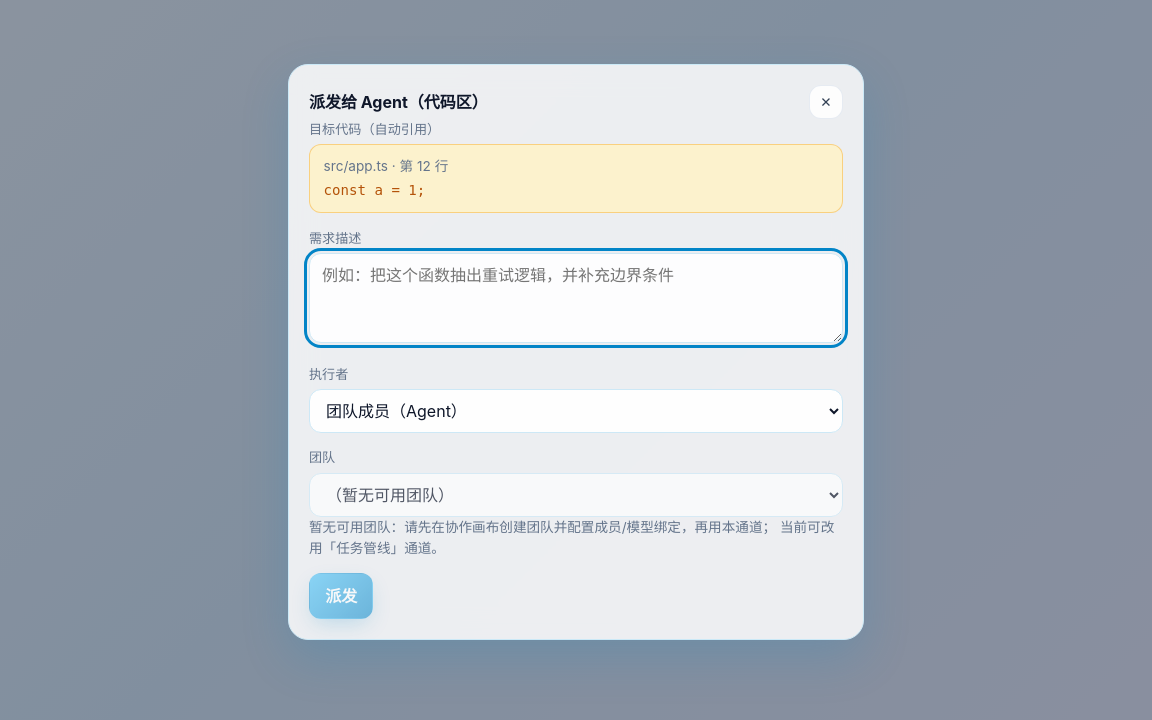
it: WorkbenchDispatchDialog 提交 payload › 任务管线通道：payload 含需求+片段引用+所选模式，回执展示真实 task_id
Expected: the text "暂无可用团队：请先在协作画布创建团队并配置成员/模型绑定，再用本通道； 当前可改用「任务管线」通道。" is shown, [309,517,843,559]
Select "任务管线（按模式建任务）" in the dropdown with test id "wb-dispatch-executor-kind" at (576, 411), box [309,389,843,433]
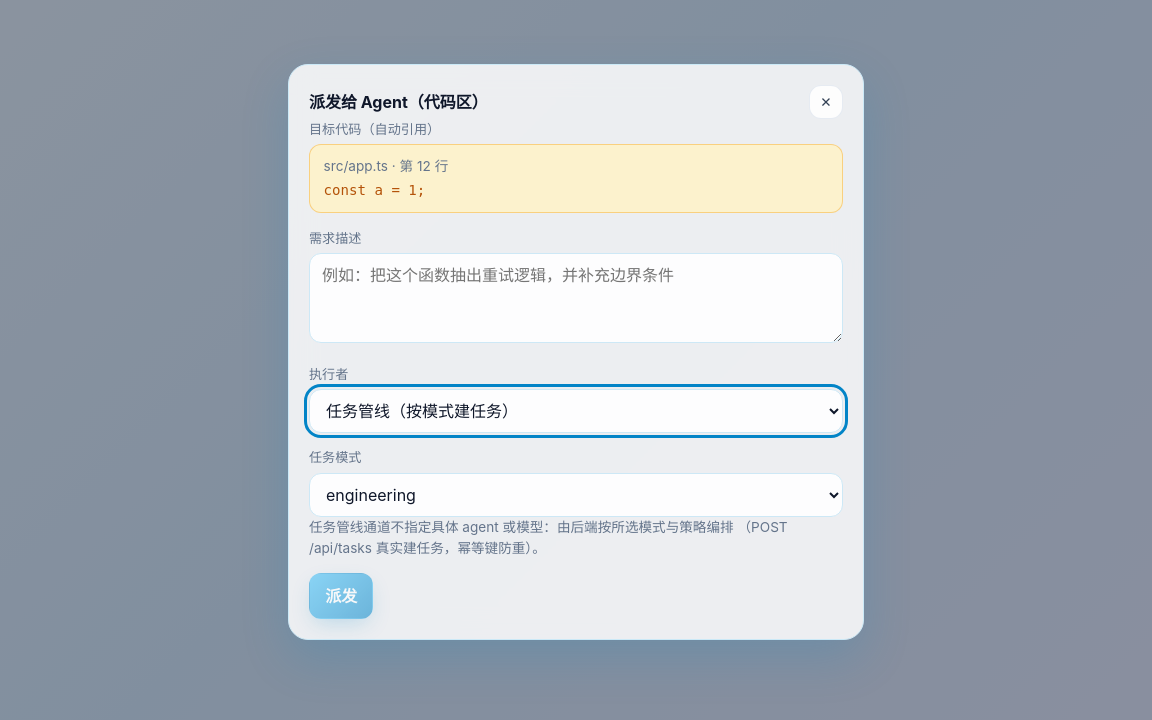
Select "engineering" in the dropdown with test id "wb-dispatch-mode" at (576, 495), box [309,473,843,517]
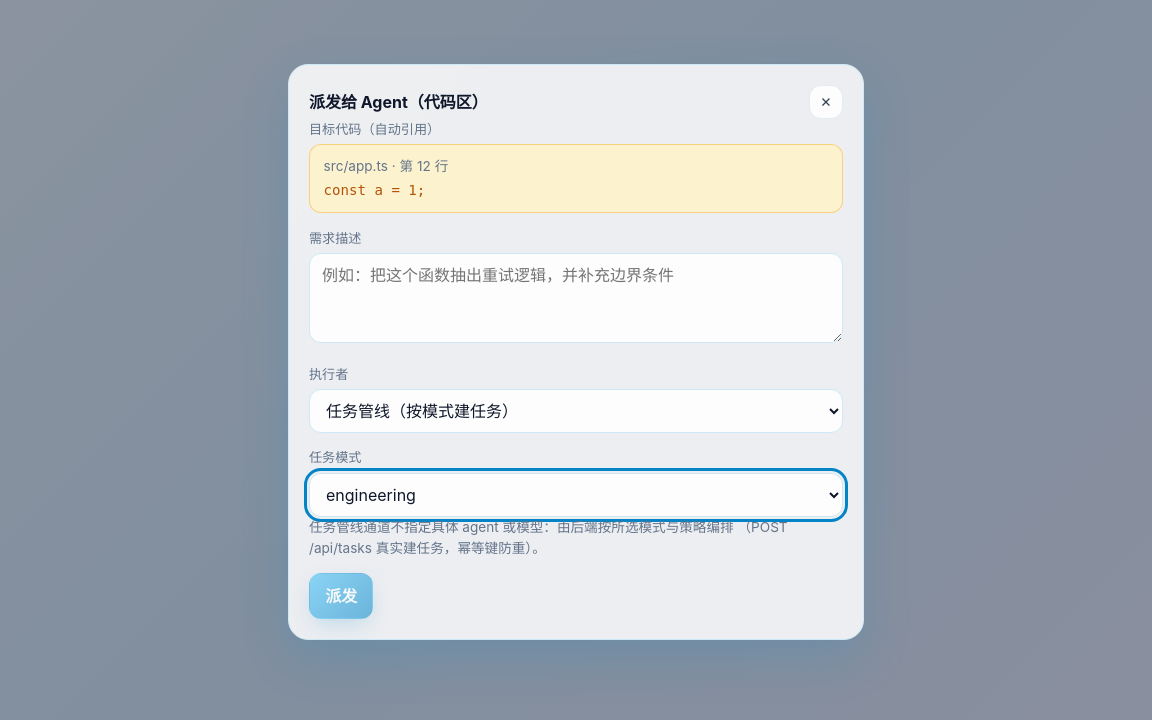
Type "把这个函数改成异步" into the text box with test id "wb-dispatch-requirement" at (576, 298), box [309,253,843,343]
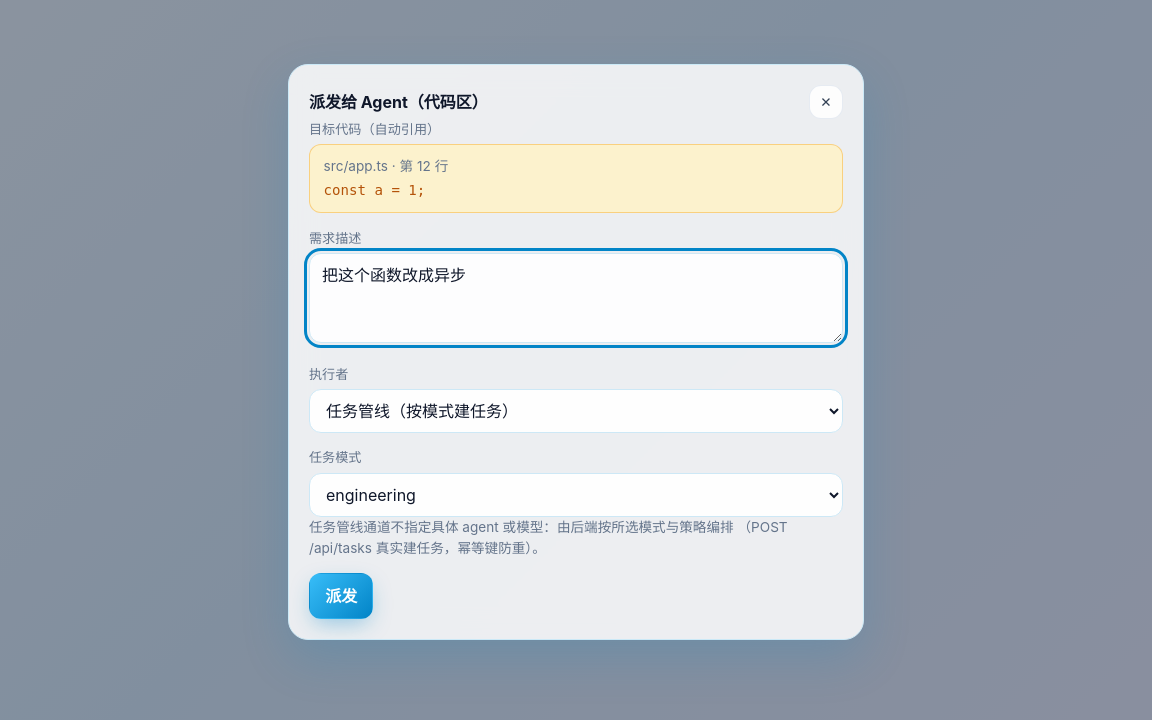
Click the button with test id "wb-dispatch-submit" at (341, 596), box [309,573,373,619]
(page scrolled)
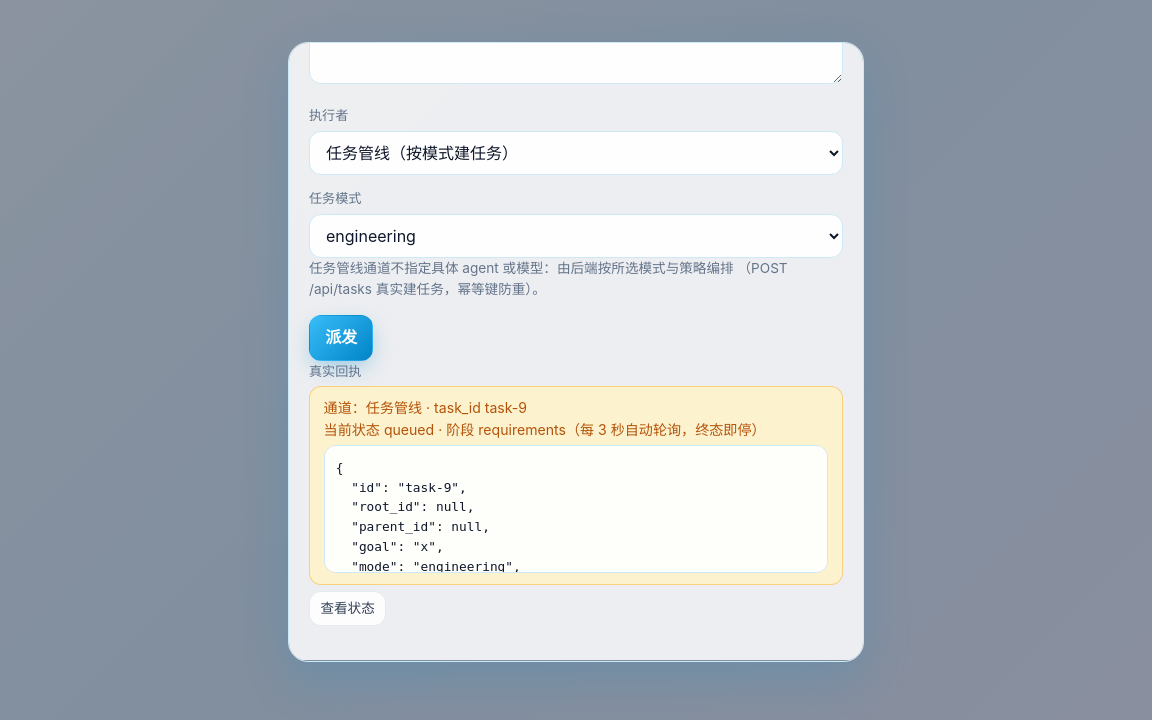
Expected: the element with test id "wb-dispatch-receipt" shows "task-9", [485,399,527,416]
